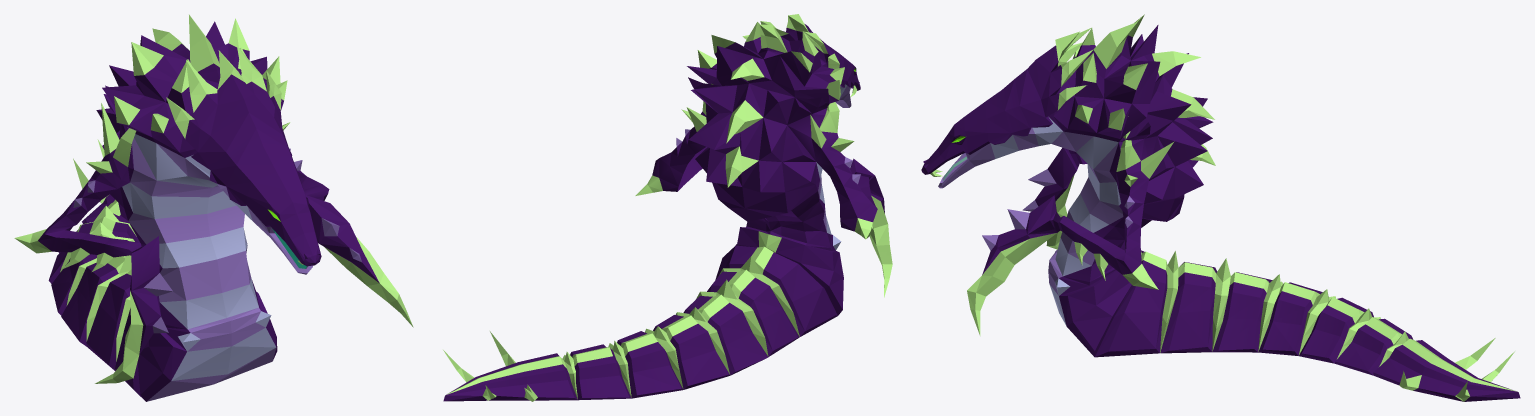
The picture shows the model from 3 angles, left to right: view 1: azimuth 30°, elevation 25°; view 2: azimuth 150°, elevation 25°; view 3: azimuth 270°, elevation 25°; orthographic projection. The views are drawn at different scales.
Parts seen in each view (by area): view 1: Alien_Serpent; view 2: Alien_Serpent; view 3: Alien_Serpent.
Part boxes in pixels (left/top/right/bottom): Alien_Serpent: left=14, top=14, right=413, bottom=401; Alien_Serpent: left=443, top=14, right=892, bottom=401; Alien_Serpent: left=921, top=14, right=1520, bottom=401.
Bounding box in the file's own units: 225 × 217 × 373.
1 material, 1 textured.
